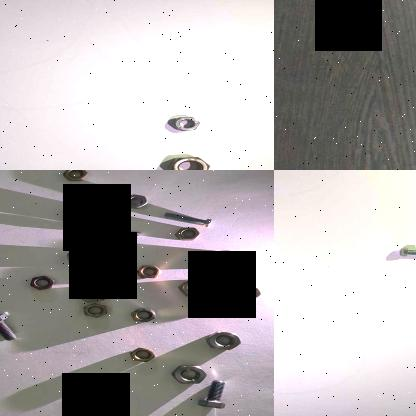Bolts: (88, 223, 146, 243), (197, 377, 228, 413), (160, 210, 212, 228), (0, 306, 25, 342), (391, 242, 416, 265)
NUTS: (164, 364, 208, 386), (203, 330, 245, 352), (58, 247, 102, 268), (162, 153, 212, 170), (62, 202, 99, 223), (166, 115, 204, 133), (177, 278, 215, 296), (206, 250, 240, 270), (76, 283, 109, 301), (124, 345, 156, 363), (80, 302, 110, 320), (126, 308, 158, 324), (122, 190, 148, 209), (232, 285, 262, 301), (57, 170, 93, 183), (29, 275, 61, 289), (170, 227, 201, 240), (138, 267, 164, 279)
